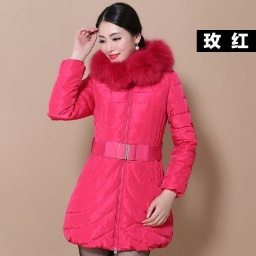face: (96, 2, 143, 62)
